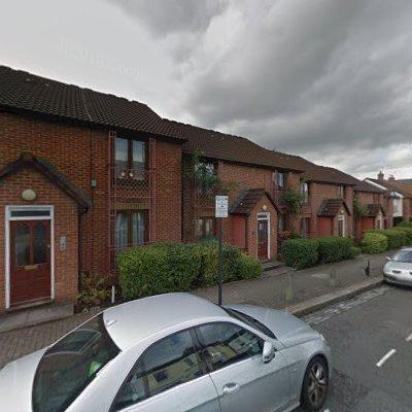stationary-car-onstreet: (0, 291, 333, 411), (383, 246, 411, 291)
